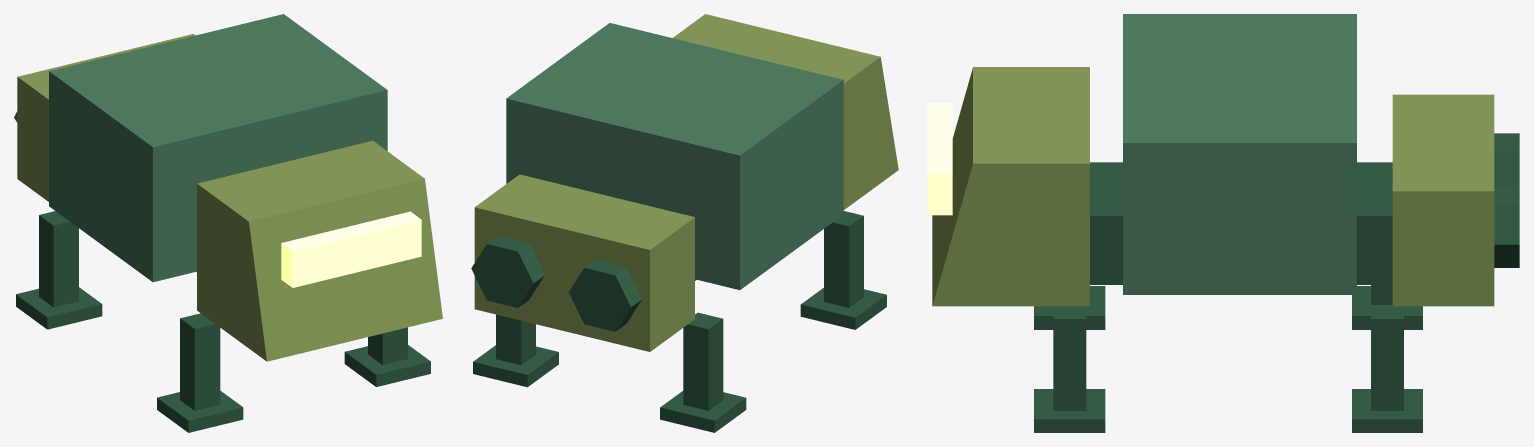
Rendered from hauler.glb.
3 views of the same model, side by side, from view 1: azimuth 30°, elevation 25°; view 2: azimuth 150°, elevation 25°; view 3: azimuth 270°, elevation 25° (orthographic). The views are drawn at different scales.
Parts seen in each view (by area): view 1: Pod, Cab, Screen, Engine, Leg0, Leg2, Foot0, Foot2, Foot1, Leg1; view 2: Pod, Engine, Cab, NozL, NozR, Leg2, Leg0, Foot2, Foot0, Foot3, Leg3; view 3: Pod, Cab, Engine, Spine, Leg1, Leg3, Screen, Foot1, Foot3, NozR, NozL, Foot0 (+1 smaller).
Part boxes in pixels (left/top/right/bottom): Pod: left=49, top=14, right=387, bottom=282; Cab: left=197, top=140, right=442, bottom=361; Screen: left=281, top=211, right=421, bottom=287; Engine: left=17, top=34, right=195, bottom=201; Leg0: left=180, top=313, right=220, bottom=410; Leg2: left=39, top=211, right=78, bottom=307; Foot0: left=157, top=391, right=243, bottom=432; Foot2: left=16, top=287, right=102, bottom=329; Foot1: left=344, top=345, right=430, bottom=386; Leg1: left=368, top=327, right=407, bottom=364; Pod: left=506, top=23, right=843, bottom=289; Engine: left=474, top=174, right=694, bottom=351; Cab: left=673, top=14, right=898, bottom=209; NozL: left=568, top=259, right=641, bottom=331; NozR: left=471, top=236, right=544, bottom=307; Leg2: left=683, top=312, right=723, bottom=410; Leg0: left=824, top=211, right=863, bottom=307; Foot2: left=660, top=391, right=746, bottom=432; Foot0: left=800, top=288, right=886, bottom=329; Foot3: left=473, top=345, right=558, bottom=387; Leg3: left=496, top=314, right=535, bottom=365; Pod: left=1123, top=14, right=1356, bottom=294; Cab: left=932, top=67, right=1089, bottom=306; Engine: left=1392, top=94, right=1494, bottom=306; Spine: left=1090, top=162, right=1392, bottom=284; Leg1: left=1053, top=306, right=1086, bottom=410; Leg3: left=1371, top=305, right=1403, bottom=410; Screen: left=927, top=103, right=952, bottom=215; Foot1: left=1034, top=389, right=1105, bottom=432; Foot3: left=1352, top=389, right=1422, bottom=432; NozR: left=1494, top=187, right=1519, bottom=267; NozL: left=1494, top=133, right=1519, bottom=186; Foot0: left=1034, top=286, right=1105, bottom=329.
Size of the model in its own units: 1.24 by 1.25 by 2.33.
